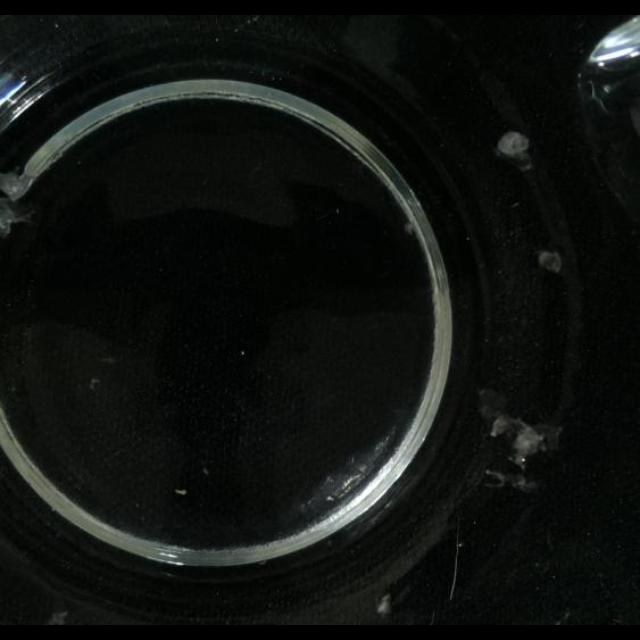Fibre: (489, 412, 549, 464), (48, 610, 68, 624)
microbeads: (376, 595, 392, 617), (89, 376, 101, 390)
